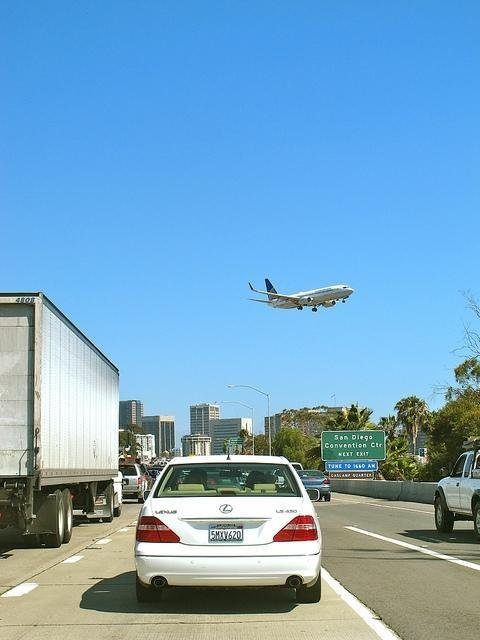car: (134, 446, 322, 604), (296, 469, 332, 502), (120, 462, 148, 503), (271, 461, 306, 484), (147, 468, 164, 478), (141, 462, 150, 468)
truck: (0, 292, 125, 541), (433, 450, 480, 542)
